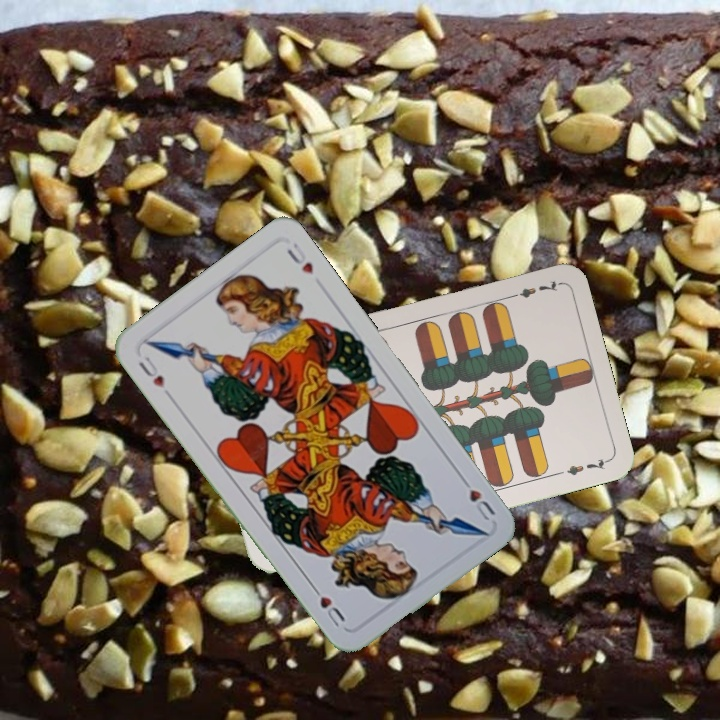E7: (503, 276, 562, 302)
HU: (456, 472, 498, 524), (134, 352, 174, 400)
